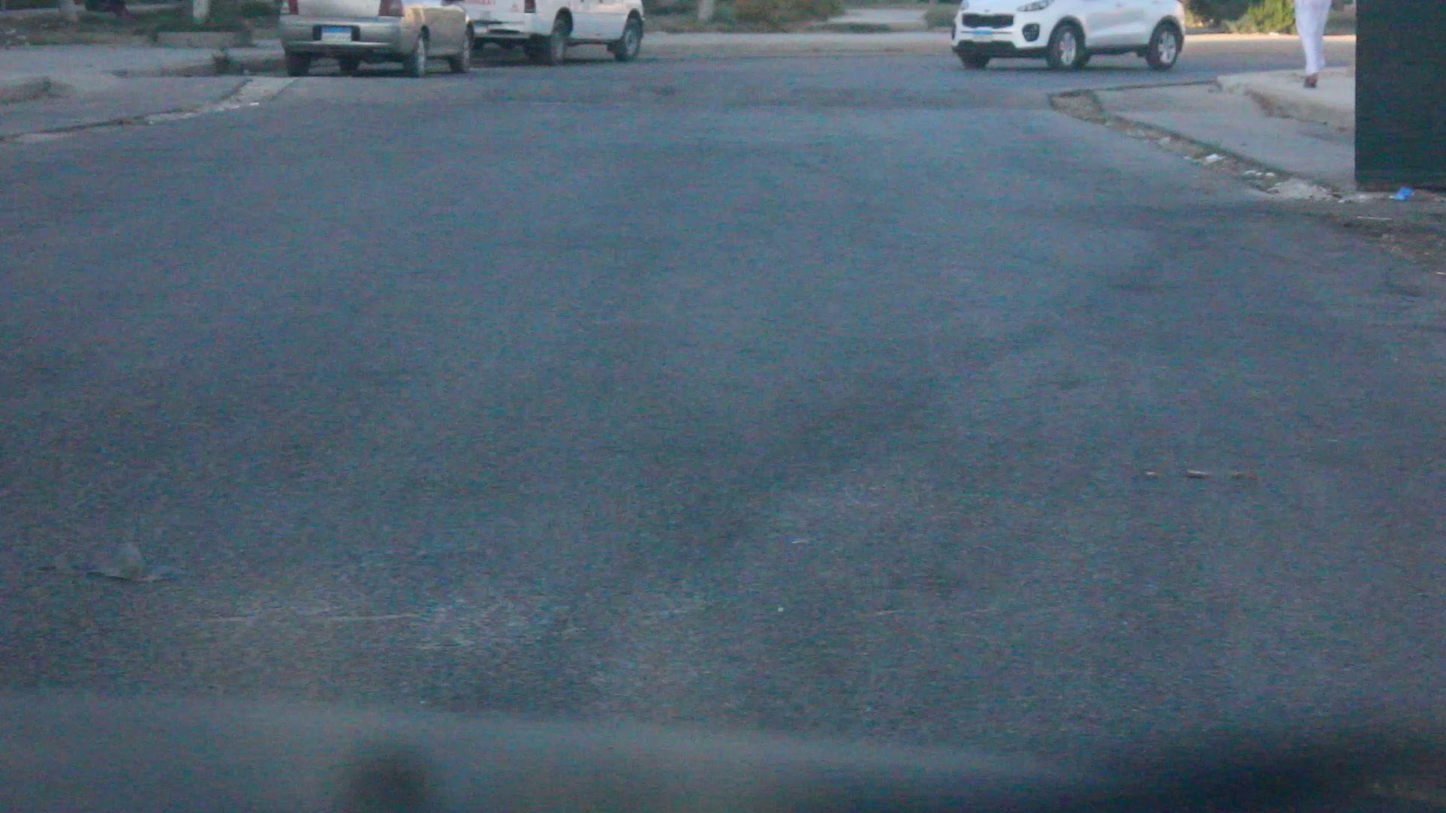Bump: (139, 67, 1057, 117)
